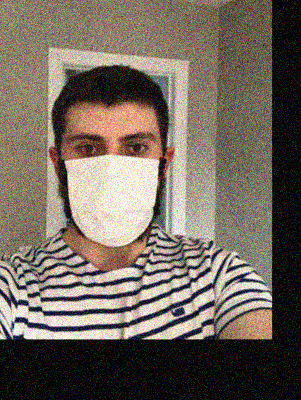with_mask: (61, 122, 161, 248)
